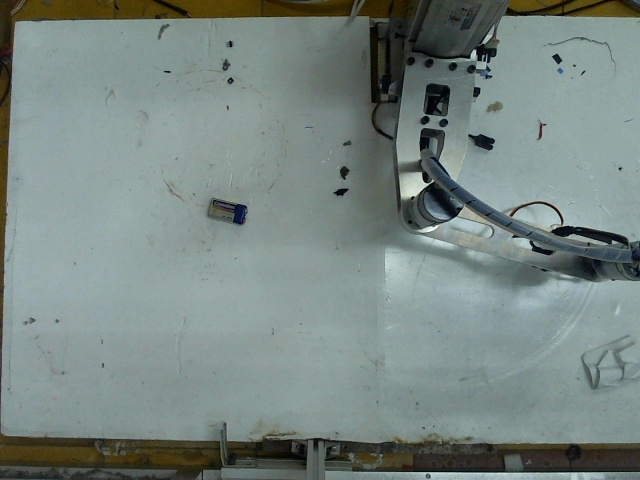battery: (205, 193, 248, 223)
